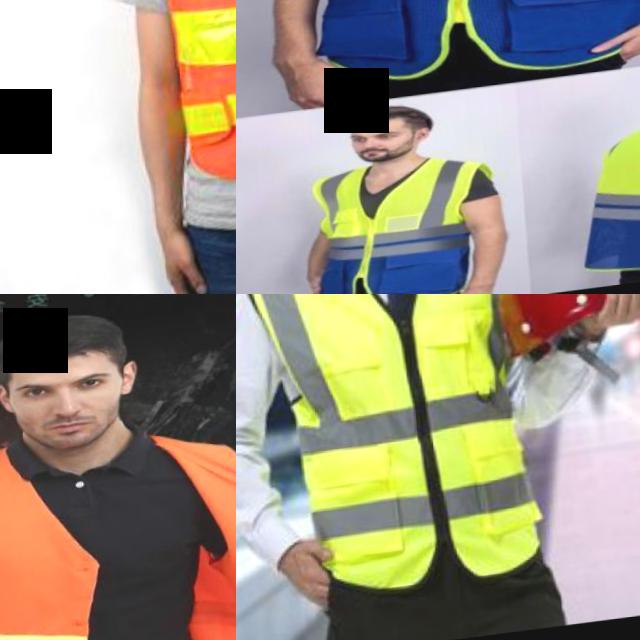vest: (247, 294, 554, 611), (314, 0, 640, 94), (321, 157, 475, 294), (145, 0, 236, 203), (0, 453, 97, 640), (595, 120, 640, 271)
